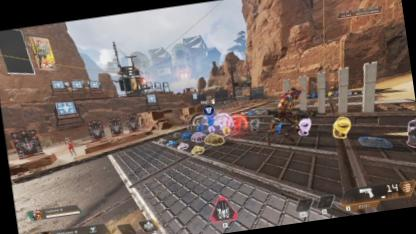Target: (257, 86, 308, 147)
